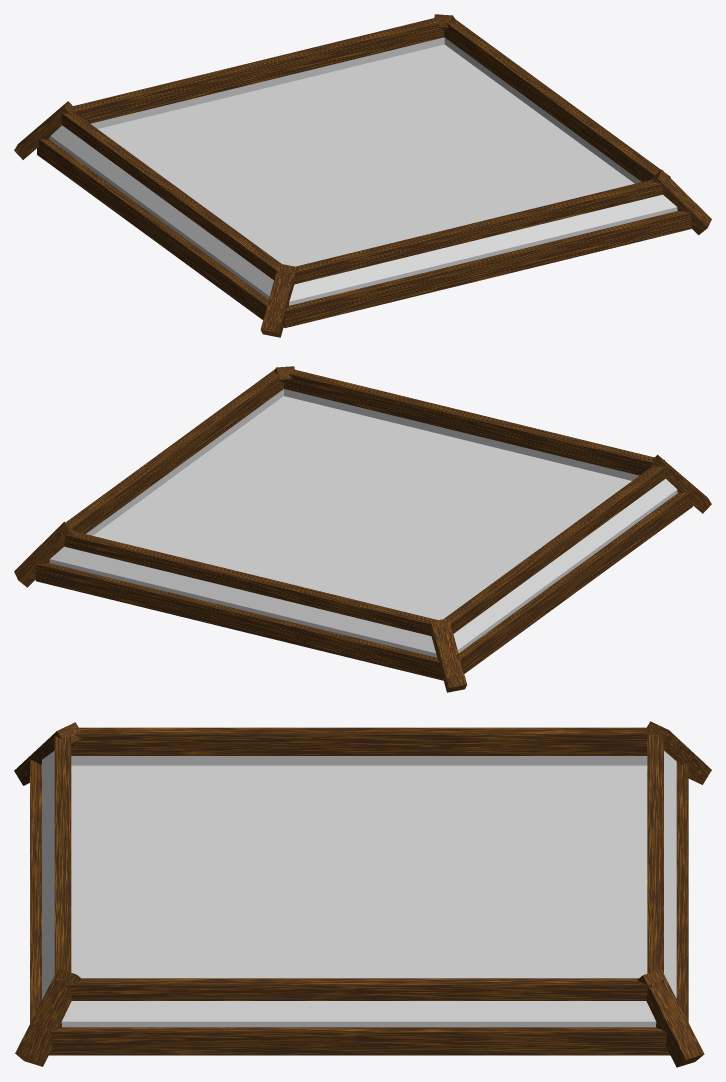
Rendered from Roof Flat.fbx.
The picture shows the model from 3 angles, top to bottom: view 1: azimuth 30°, elevation 25°; view 2: azimuth 150°, elevation 25°; view 3: azimuth 270°, elevation 25°; orthographic projection. The views are drawn at different scales.
Parts seen in each view (by area): view 1: Cube.008; view 2: Cube.008; view 3: Cube.008.
Part boxes in pixels (x1,y1,x2,y2): Cube.008: (14,14,711,337); Cube.008: (14,366,711,692); Cube.008: (14,721,711,1067).
Size of the model in its own units: 1184 by 1200 by 141.
